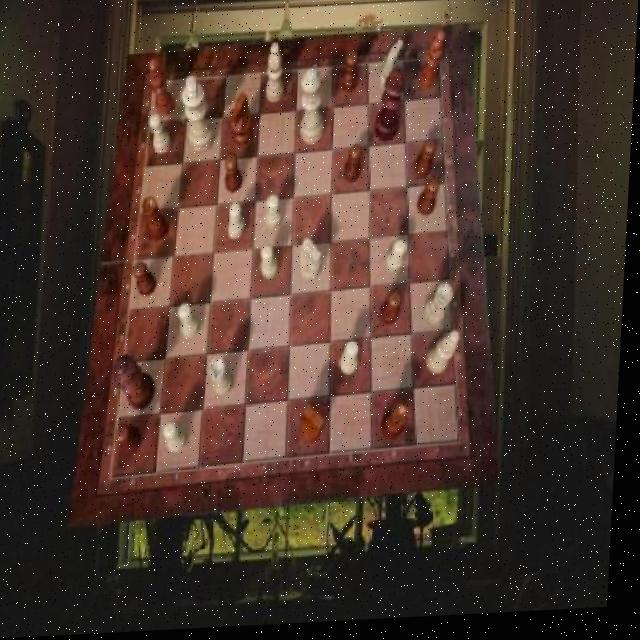bishop: (149, 60, 178, 120), (419, 36, 446, 95)
black-bishop: (377, 71, 407, 147)
black-king: (231, 96, 256, 149), (304, 406, 330, 449)
black-knight: (135, 262, 161, 298), (419, 183, 442, 222), (120, 424, 148, 456), (418, 144, 439, 183), (383, 297, 406, 332), (227, 157, 246, 197), (341, 56, 359, 97), (346, 148, 364, 187)
black-pawn: (115, 355, 161, 414)
black-queen: (144, 197, 173, 244), (386, 408, 415, 446)
black-rook: (430, 334, 465, 380), (266, 47, 286, 107)
white-bishop: (181, 77, 218, 156)
white-king: (380, 43, 405, 97), (303, 240, 327, 285)
white-knight: (150, 114, 175, 157), (181, 305, 206, 342), (167, 424, 193, 457), (388, 243, 410, 278), (342, 343, 363, 379), (230, 205, 249, 242), (264, 247, 284, 282), (267, 197, 286, 232)
white-pawn: (301, 71, 329, 148)
white-queen: (427, 288, 458, 330), (213, 360, 239, 400)
